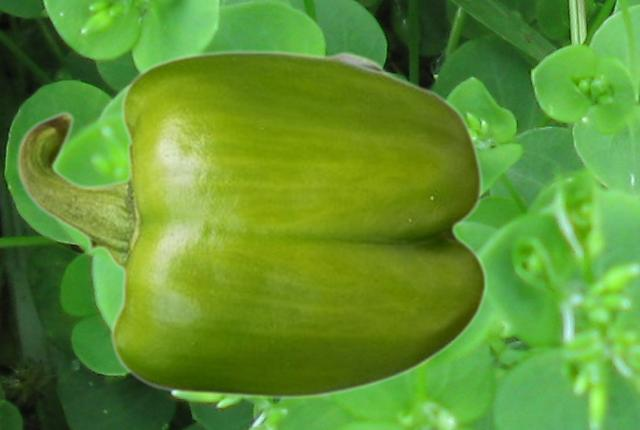bell_pepper: (16, 49, 487, 399)
